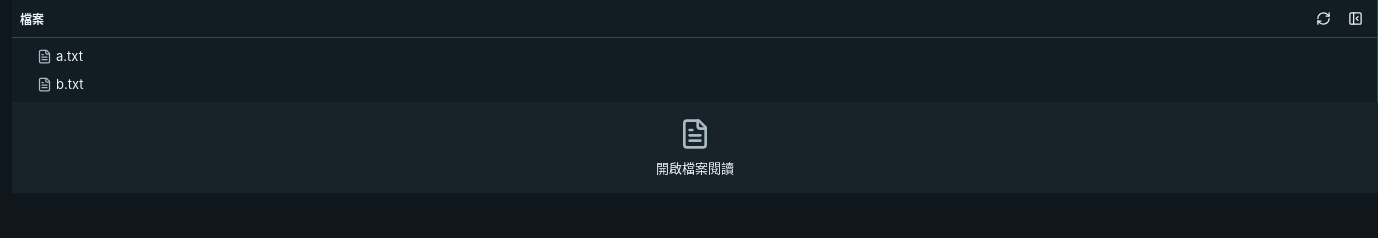
workspace file browser › stops after the in-flight chunk when the document is cancel
Click the button "a.txt". click: coordinates (44, 56)
box: x1=16 y1=42 x2=1373 y2=70
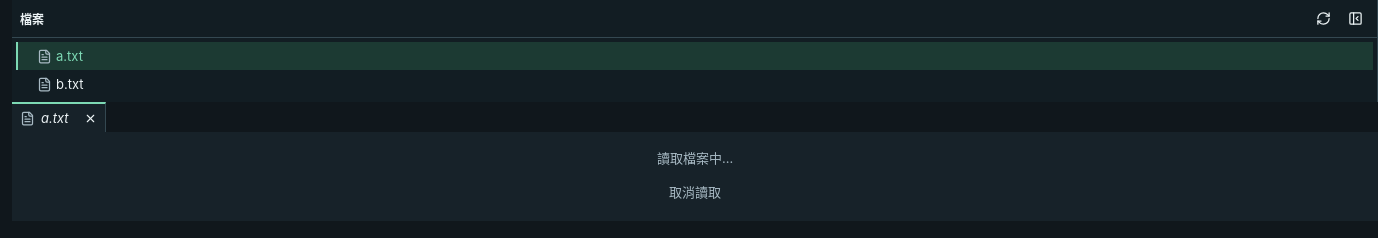
Click the button "取消讀取". click: coordinates (695, 191)
box: x1=663 y1=177 x2=727 y2=205
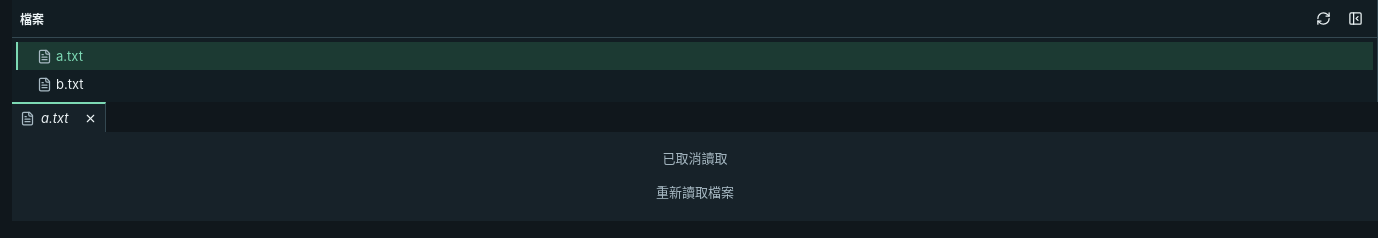
Expected: the text "已取消讀取" is shown, x1=662 y1=148 x2=728 y2=169
